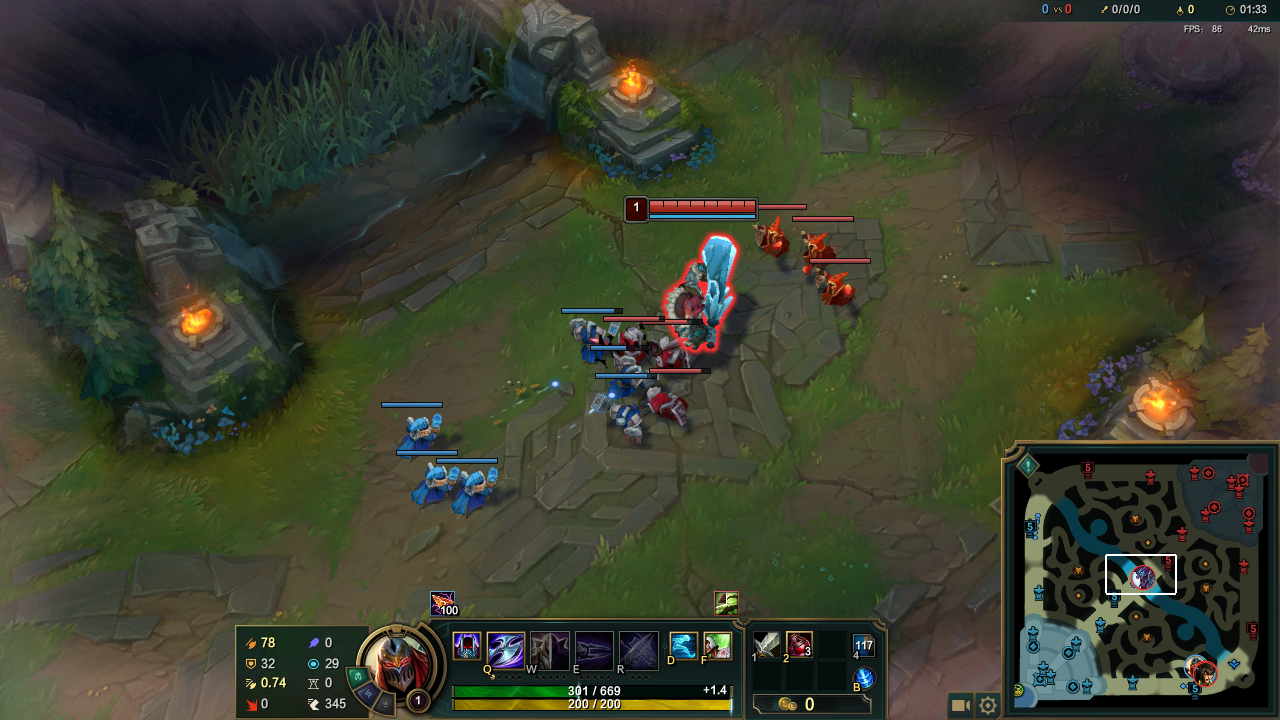DFYX: (649, 199, 754, 212)
